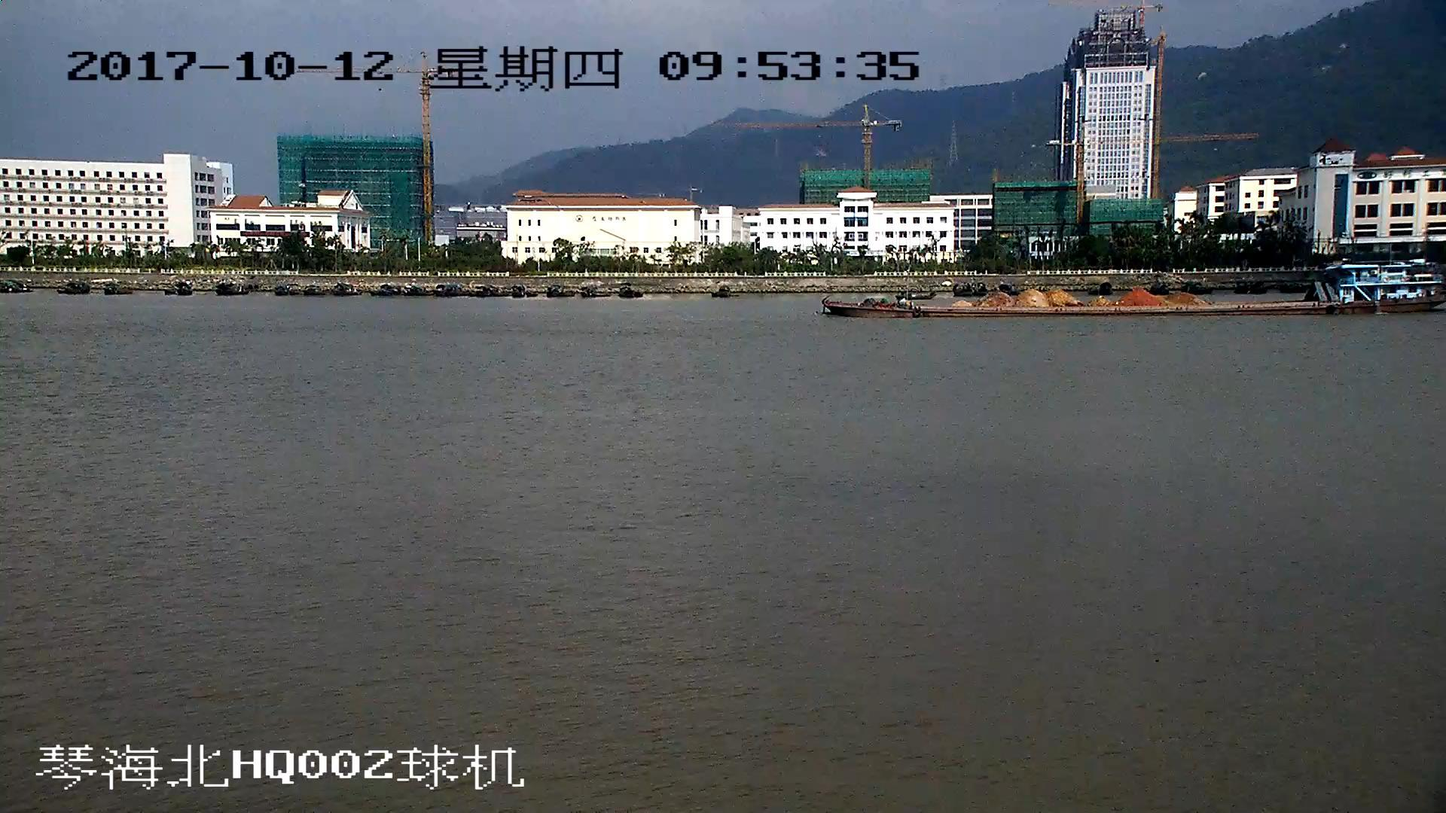ore carrier: (819, 264, 1445, 317)
